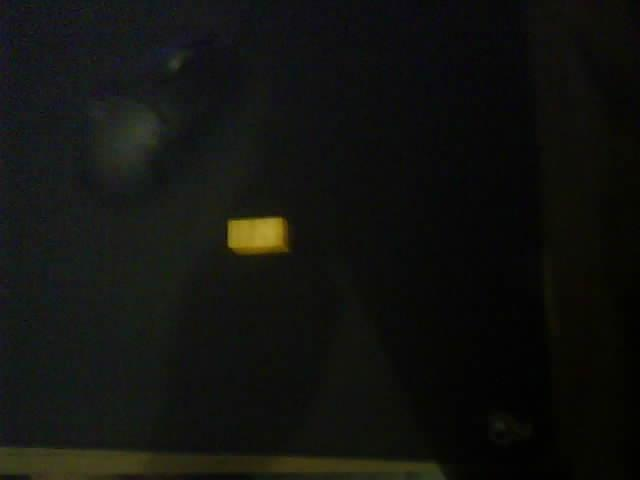lego: (226, 216, 290, 255)
